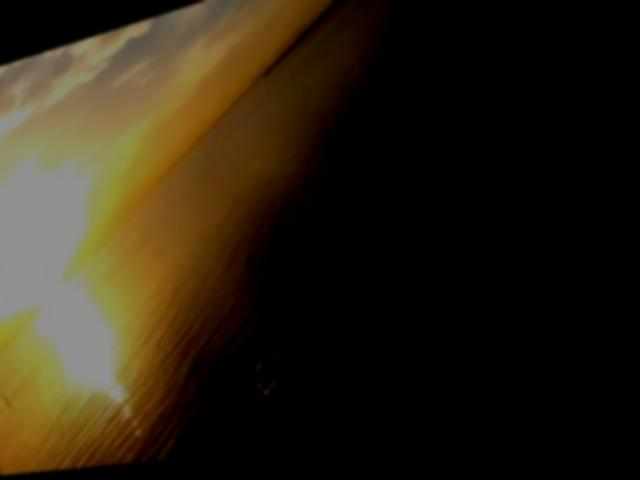uav: (207, 341, 340, 425)
